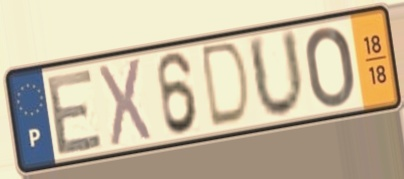6: (153, 48, 199, 138)
D: (200, 38, 253, 132)
E: (44, 64, 106, 159)
O: (302, 24, 357, 111)
U: (244, 26, 309, 123)
X: (95, 54, 154, 150)
